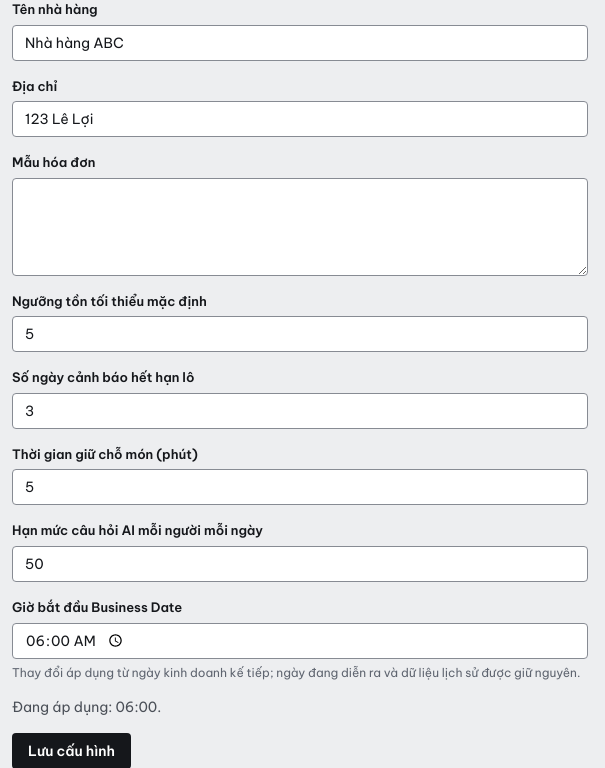
Test case: rejects a zero expiry warning interval
Replace the text in the field labelled "Số ngày cảnh báo hết hạn lô" with "0" at [300, 411], box [12,393,588,429]
(page scrolled)
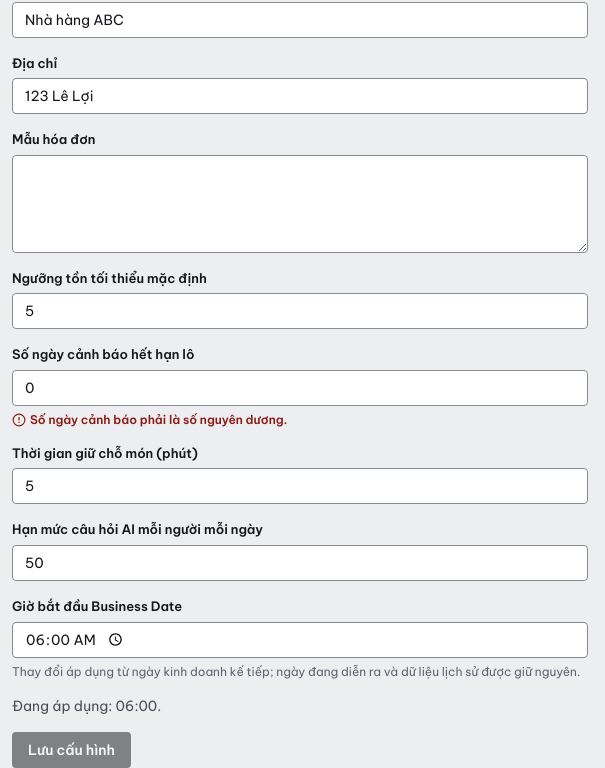
Result: the button "Lưu cấu hình" is disabled at [12,732,131,767]
